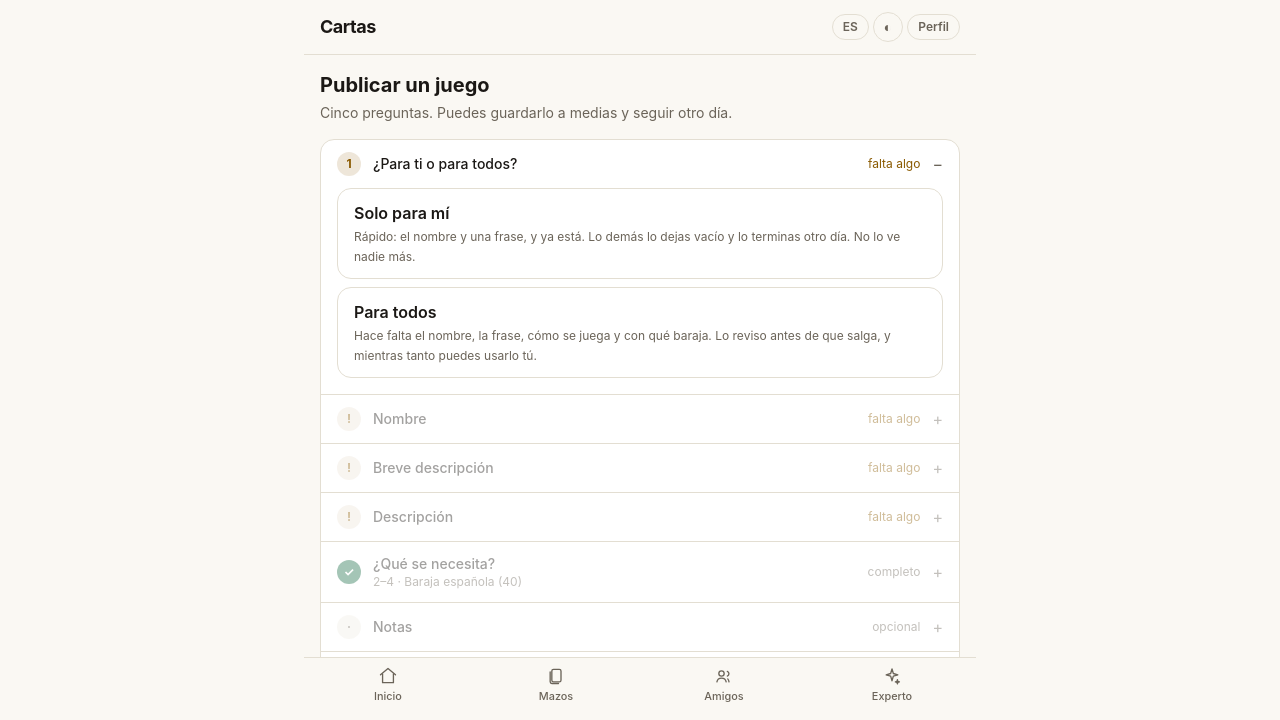
Test: crear un juego, los cinco pasos › «qué se necesita» reúne jugadores, baraja, duración y dificultad
The width and height of the screenshot is (1280, 720).
Click the button "Solo para mí" at (640, 234), box x1=337 y1=188 x2=943 y2=279
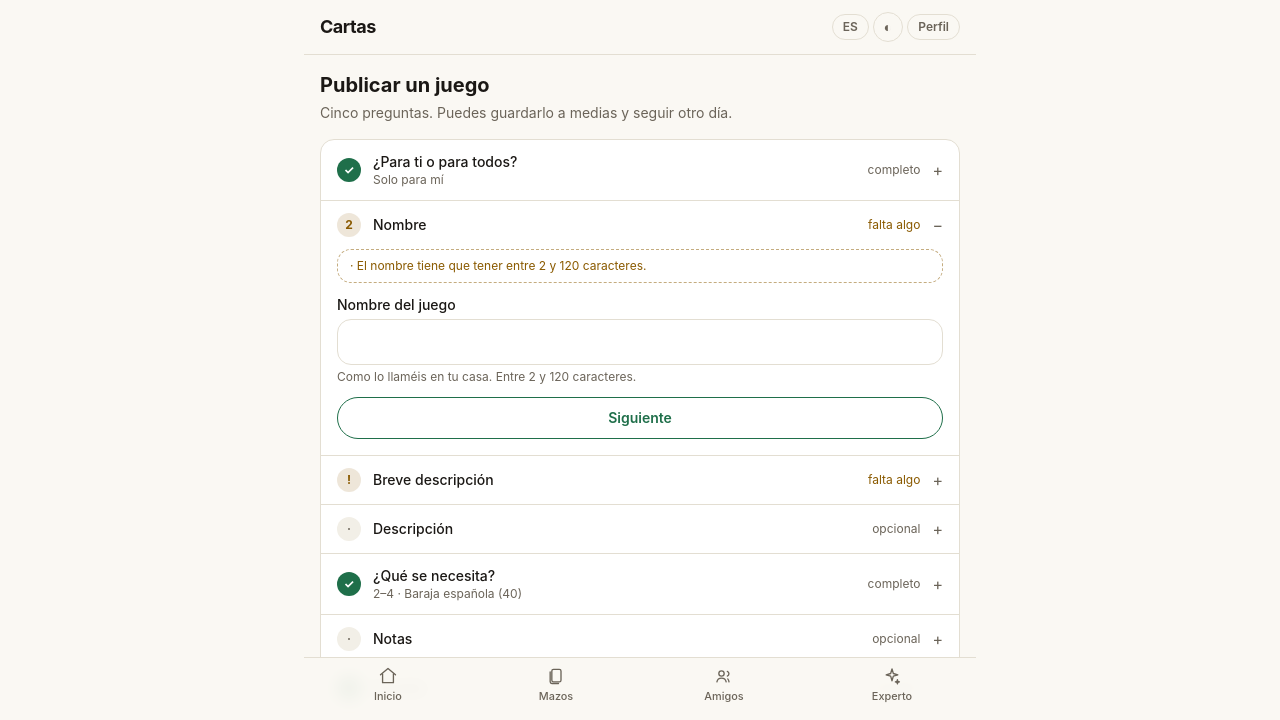
Click the button "✓ ¿Qué se necesita? 2–4 · Baraja española (40) completo +" at (434, 576), box x1=321 y1=554 x2=959 y2=614
(page scrolled)
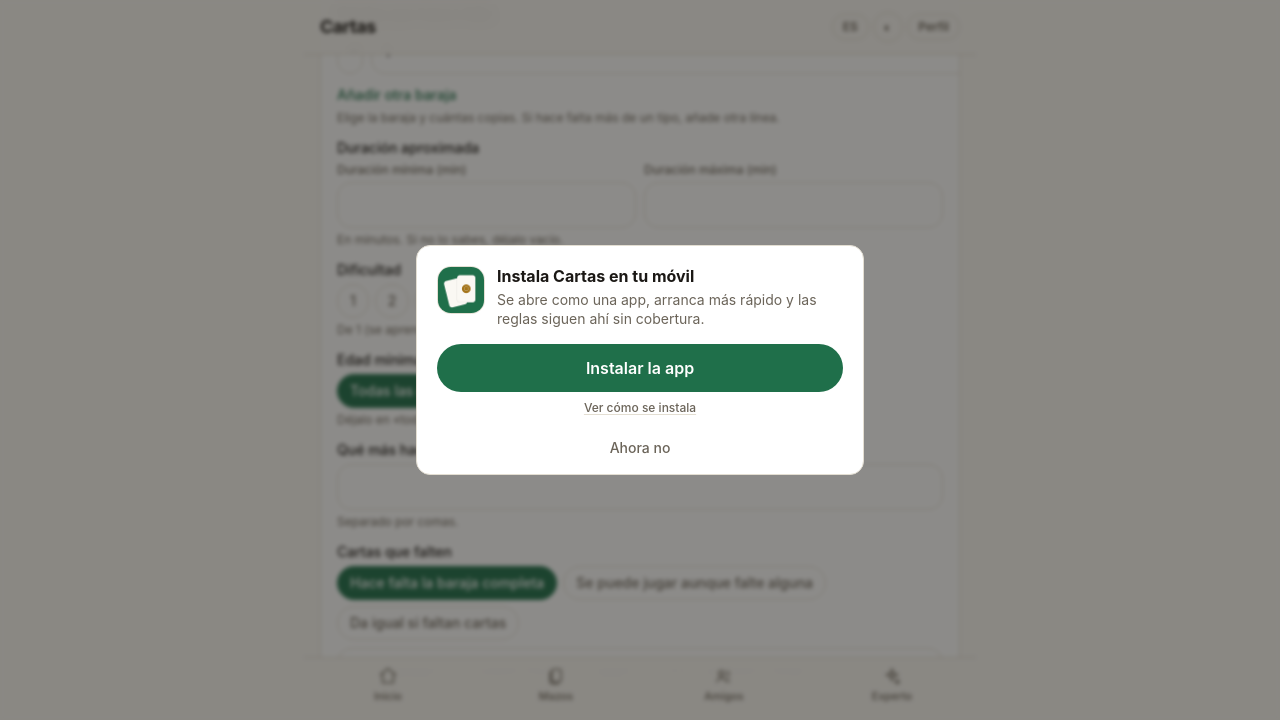
Result: the dropdown labelled "Baraja" is shown at x1=337 y1=28 x2=363 y2=74
Result: the text "Dificultad" is shown at x1=337 y1=261 x2=401 y2=278
Result: the text "Edad mínima" is shown at x1=337 y1=351 x2=423 y2=368
